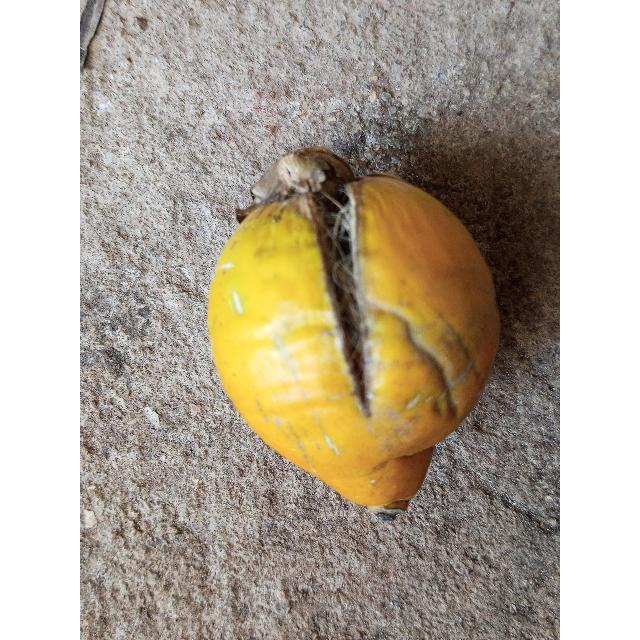damaged: (207, 151, 500, 512)
